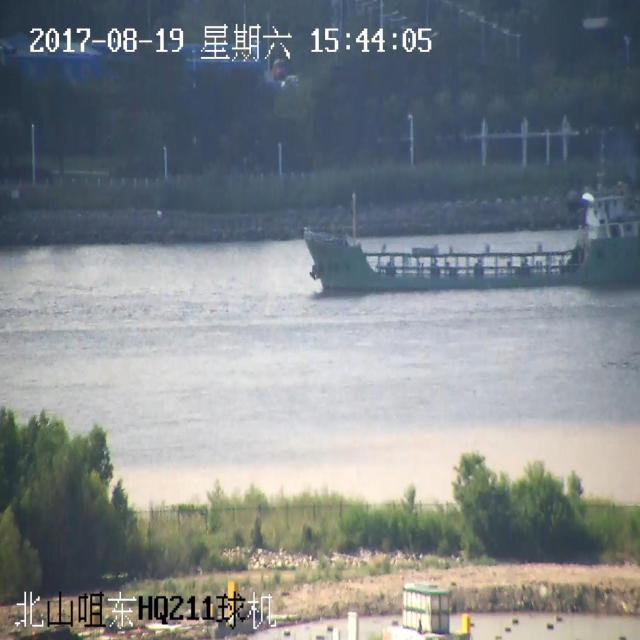houseboat: (286, 159, 640, 302)
